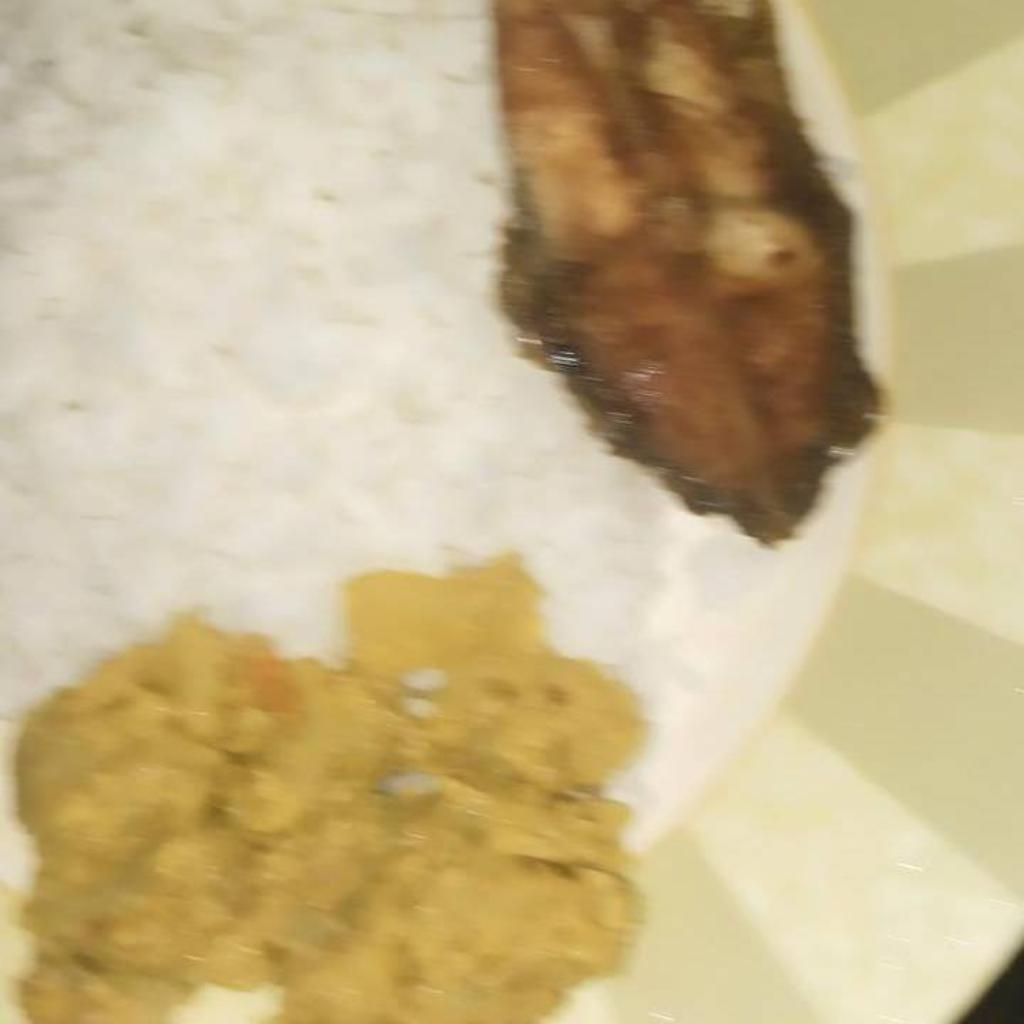fish: (489, 11, 901, 542)
rice: (0, 4, 674, 693)
vegetable: (17, 556, 640, 1023)
